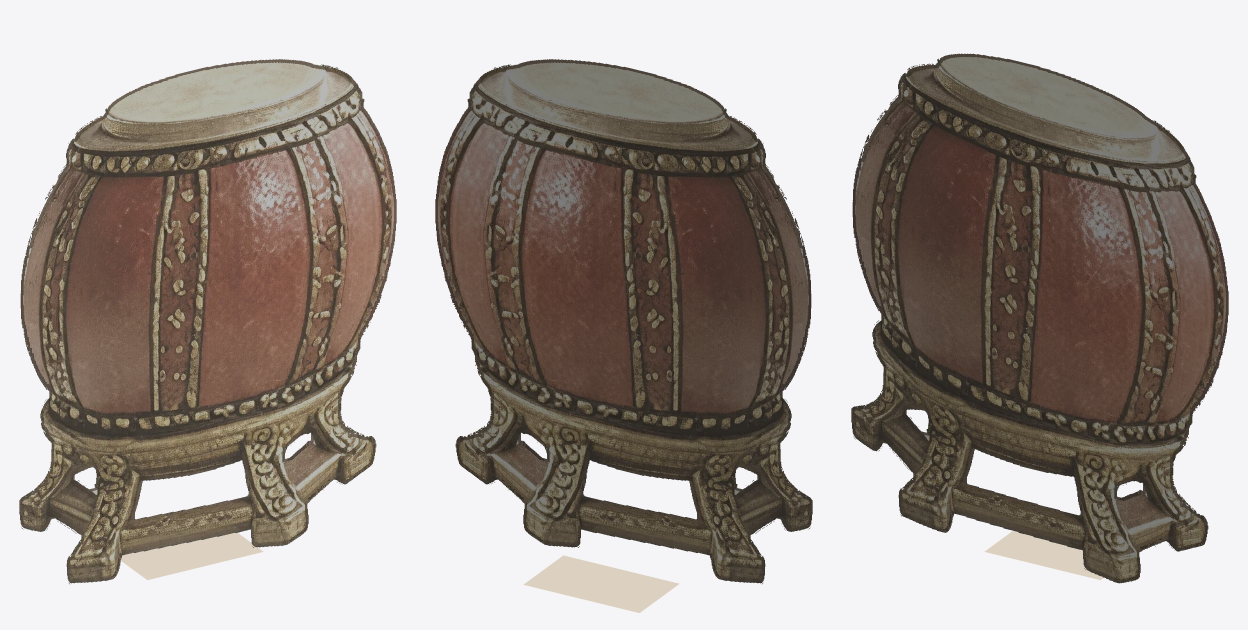
Rendered from toad-standee-thunder-drum.glb.
The picture shows the model from 3 angles, left to right: view 1: azimuth 30°, elevation 25°; view 2: azimuth 150°, elevation 25°; view 3: azimuth 330°, elevation 25°; orthographic projection.
Visible parts, largest first — view 1: thunder-drum; view 2: thunder-drum; view 3: thunder-drum.
Boxes of the visible parts, left/top/right/bottom form: thunder-drum: left=19, top=59, right=396, bottom=583; thunder-drum: left=435, top=59, right=812, bottom=612; thunder-drum: left=851, top=53, right=1228, bottom=583.
Size of the model in its own units: 0.184 by 0.2301 by 0.035.
Materials: 1 (1 with a texture image).
